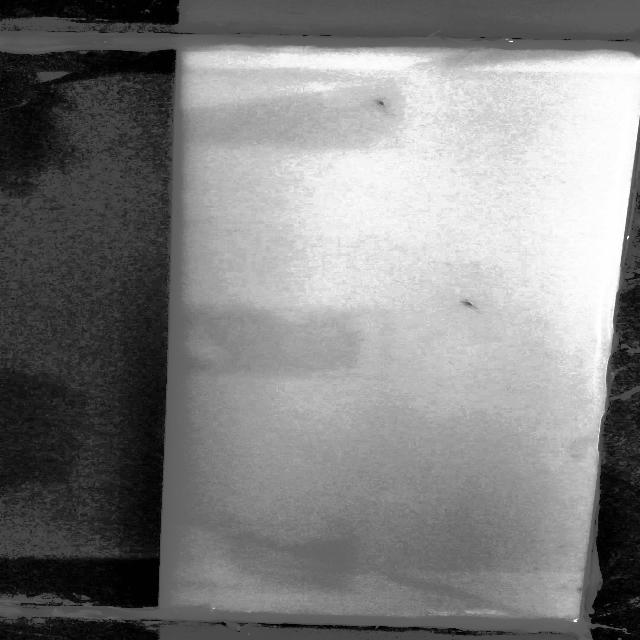shrimp: (372, 95, 390, 111), (458, 298, 482, 309)
